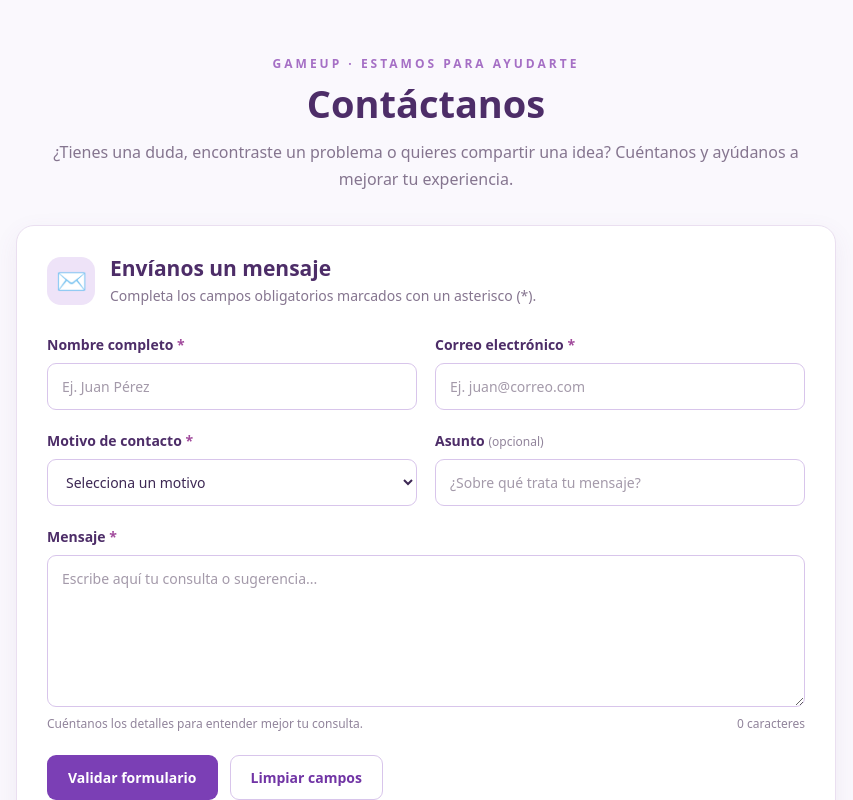
Test case: Componente Contacto › muestra una confirmación local cuando los datos son válidos
This screenshot has width=853, height=800.
Type "Ana Pérez" into the field labelled "Nombre completo *" at (232, 387), box [47,363,417,410]
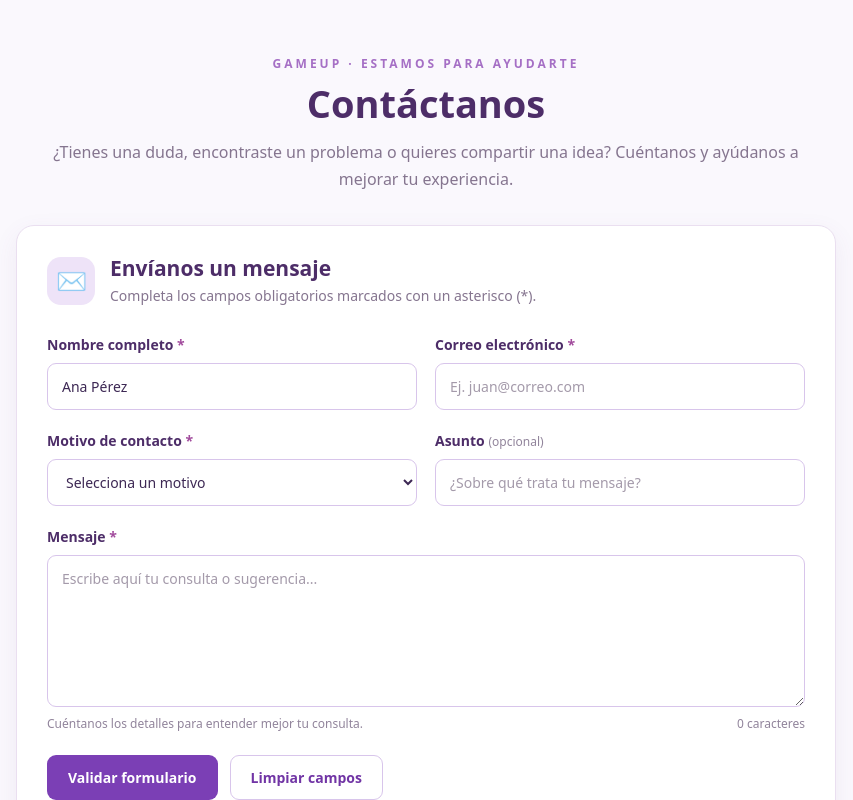
Type "ana@example.com" into the field labelled "Correo electrónico *" at (620, 387), box [435,363,805,410]
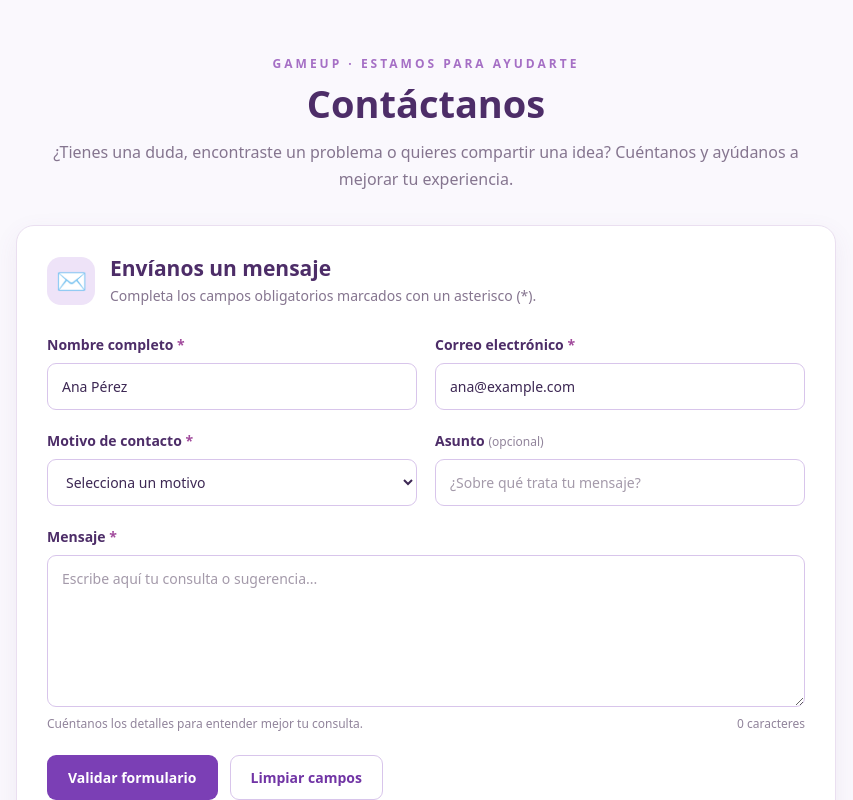
Select "Consulta general" in the dropdown labelled "Motivo de contacto *" at (232, 483), box [47,459,417,506]
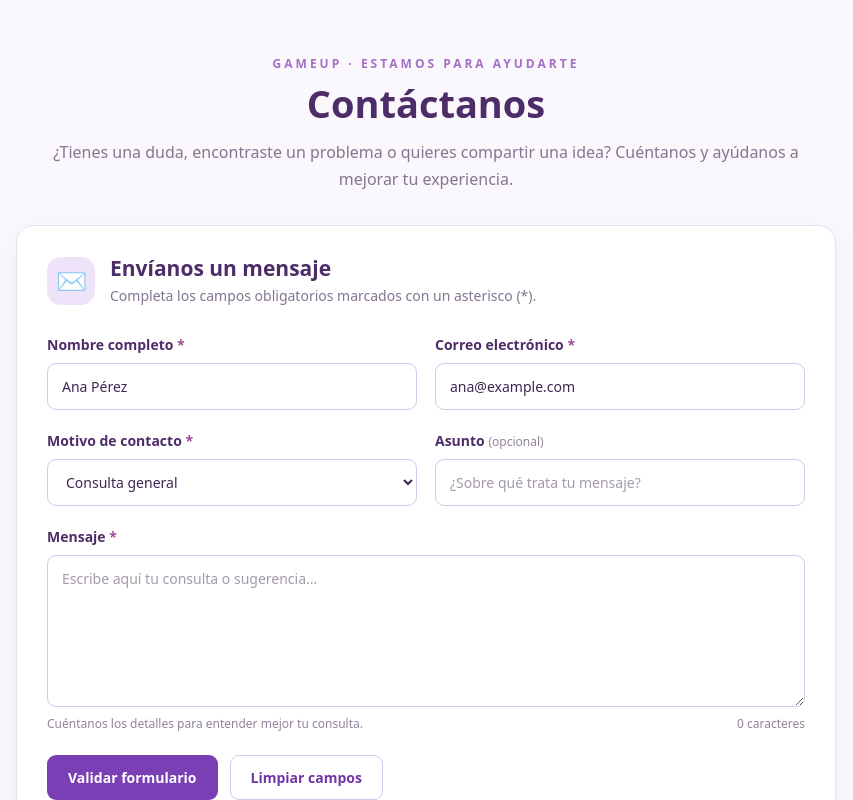
Type "Necesito ayuda con mi biblioteca de videojuegos." into the text box labelled "Mensaje *" at (426, 631), box [47,555,805,707]
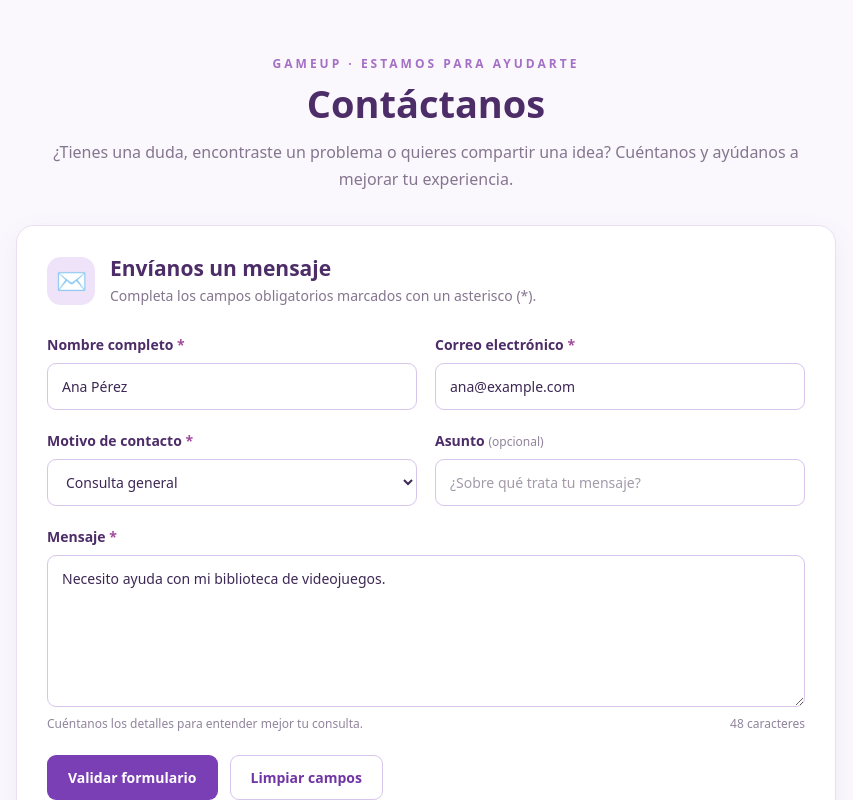
Click the button "Validar formulario" at (132, 778), box [47,755,218,799]
(page scrolled)
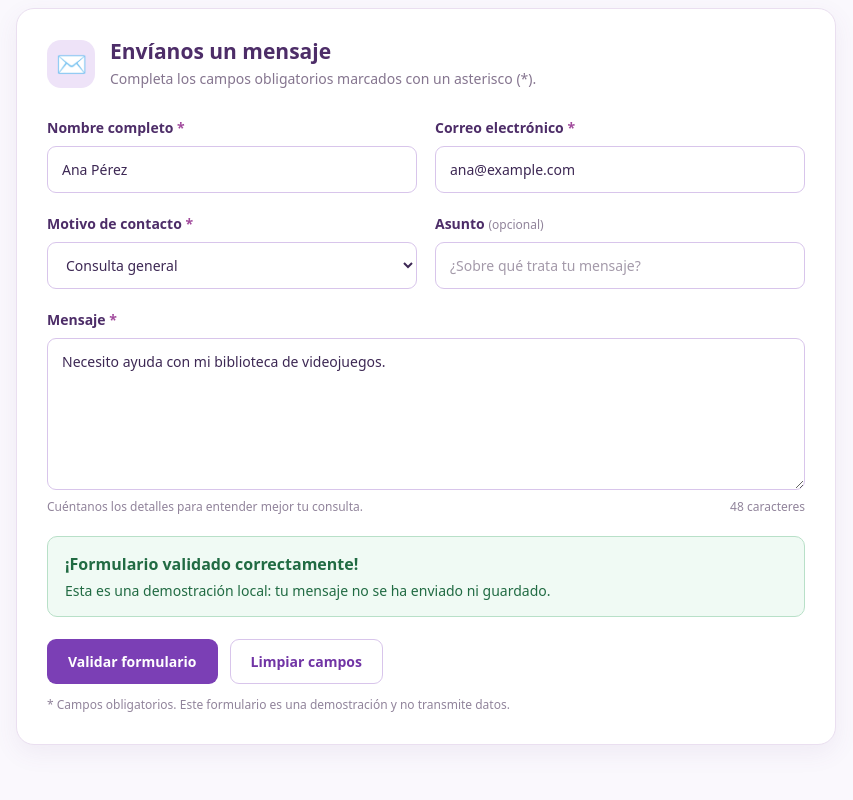
expect the message is shown: met, box [47,536,805,617]
expect the text "¡Formulario validado correctamente!" is shown: met, box [65,553,358,575]
expect the text "no se ha enviado ni guardado" is shown: met, box [65,581,550,600]
